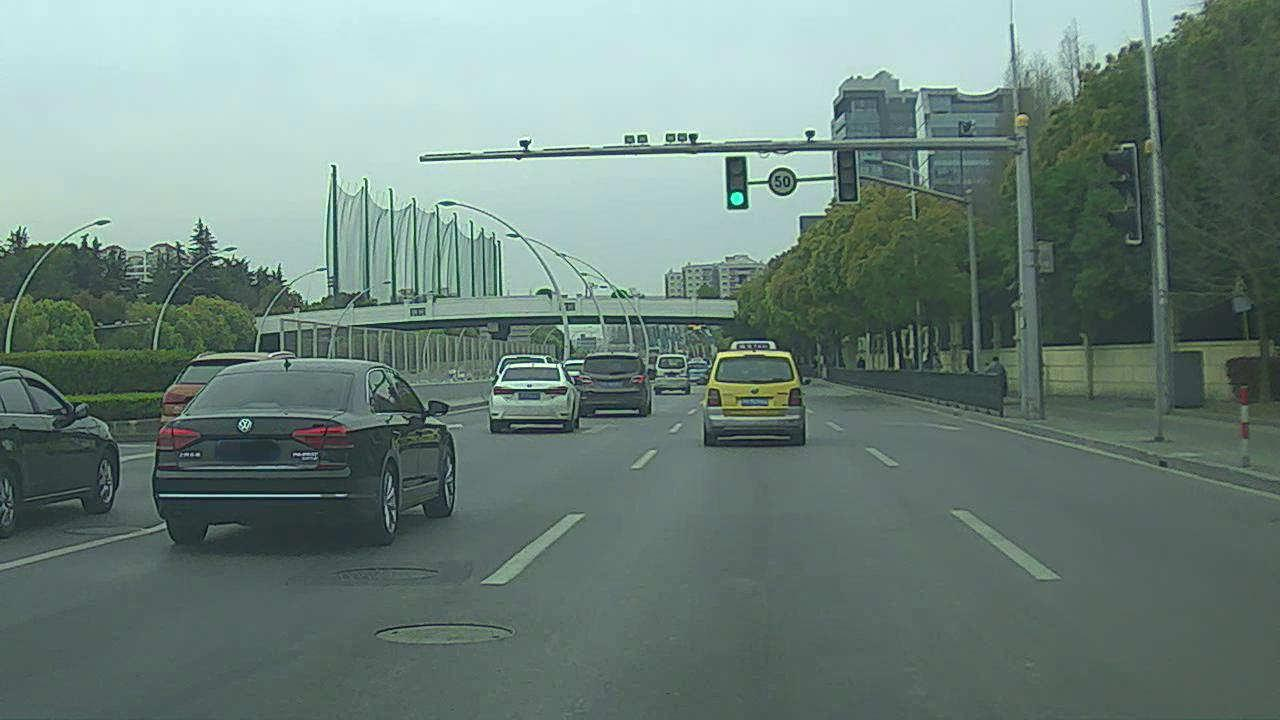traffic_light: (725, 147, 748, 208), (836, 146, 859, 205)
